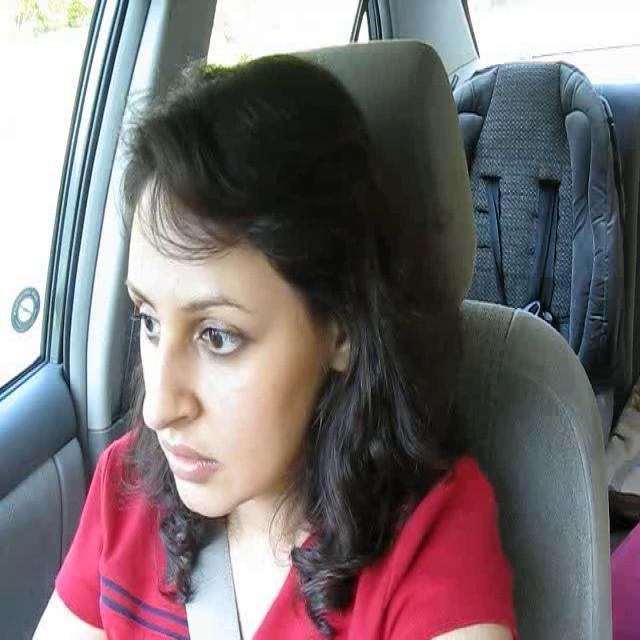open: (175, 287, 262, 366), (122, 275, 167, 361)
